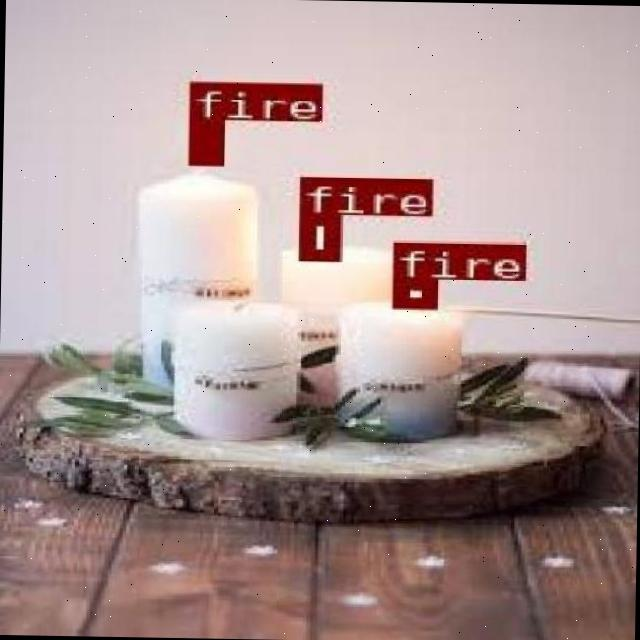fire: (295, 212, 338, 258), (188, 116, 220, 162), (390, 277, 432, 307)
